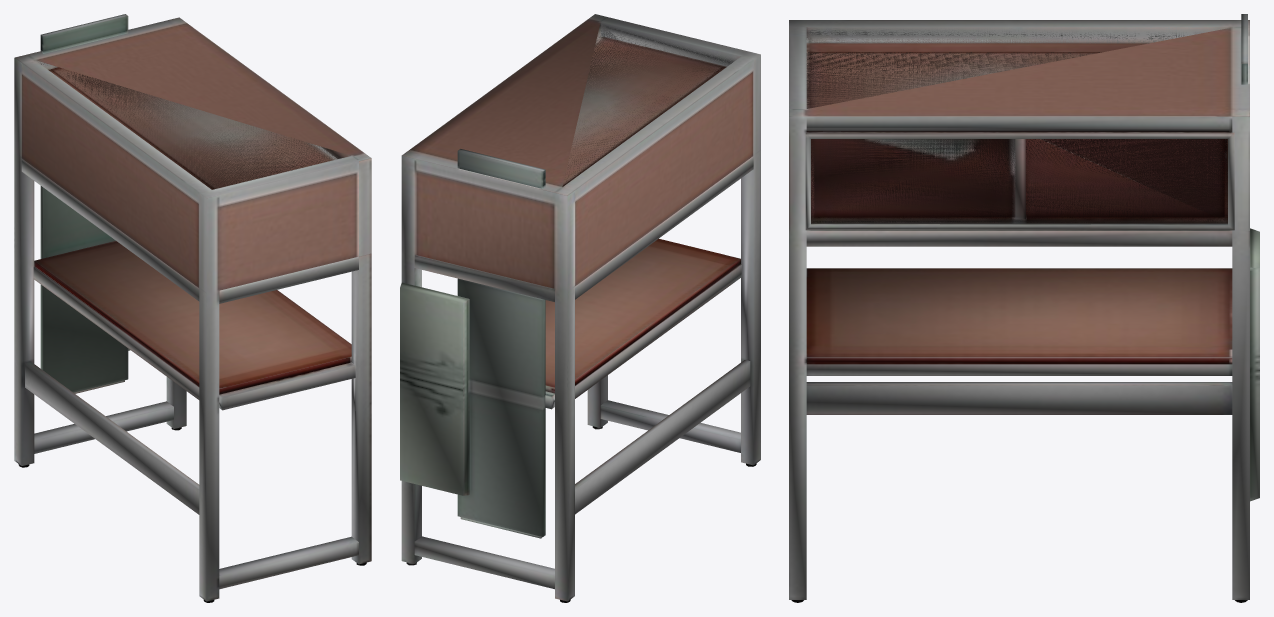
3 views of the same model, side by side, from view 1: azimuth 30°, elevation 25°; view 2: azimuth 150°, elevation 25°; view 3: azimuth 270°, elevation 25° (orthographic). The views are drawn at different scales.
Parts seen in each view (by area): view 1: tripo_node_fbef2fb3; view 2: tripo_node_fbef2fb3; view 3: tripo_node_fbef2fb3.
Boxes of the visible parts, x1,y1,x2,y2 form: tripo_node_fbef2fb3: [14, 14, 371, 602]; tripo_node_fbef2fb3: [400, 14, 760, 602]; tripo_node_fbef2fb3: [789, 14, 1259, 602].
Bounding box in the file's own units: 40.82 × 99.8 × 83.79.
1 material, 1 textured.
